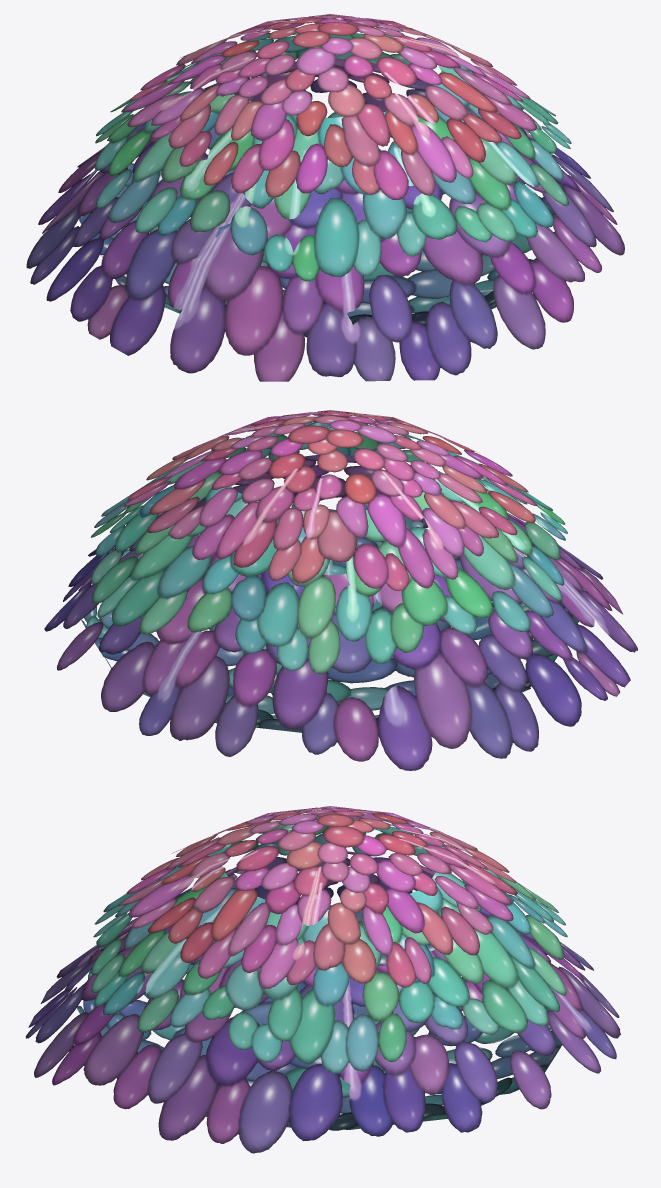
Rendered from bushes_04.fbx.
The picture shows the model from 3 angles, top to bottom: view 1: azimuth 30°, elevation 25°; view 2: azimuth 150°, elevation 25°; view 3: azimuth 270°, elevation 25°; orthographic projection.
Parts seen in each view (by area): view 1: bushes_04; view 2: bushes_04; view 3: bushes_04.
Boxes of the visible parts, bbox=[...] form: bushes_04: bbox=[26, 14, 624, 381]; bushes_04: bbox=[44, 410, 637, 770]; bushes_04: bbox=[25, 806, 620, 1153].
Size of the model in its own units: 410 by 171 by 410.
